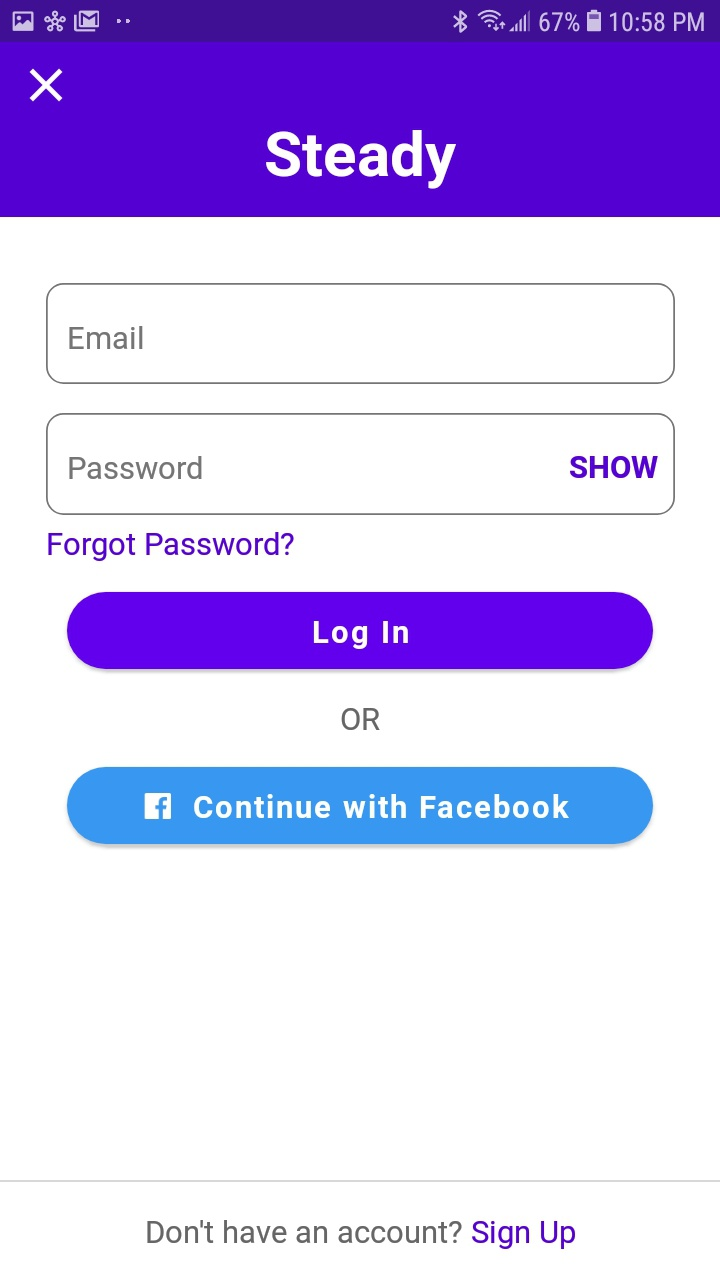EditText: (47, 413, 676, 516), (46, 284, 675, 385)
Icon: (30, 69, 64, 103)
Text: (147, 1220, 576, 1250), (266, 130, 457, 190), (48, 532, 295, 562), (70, 456, 203, 480), (570, 456, 658, 479), (70, 327, 144, 350), (342, 708, 381, 731)
TextButton: (67, 767, 654, 845), (67, 592, 654, 670)
UpperTaskBar: (1, 1, 720, 43)
